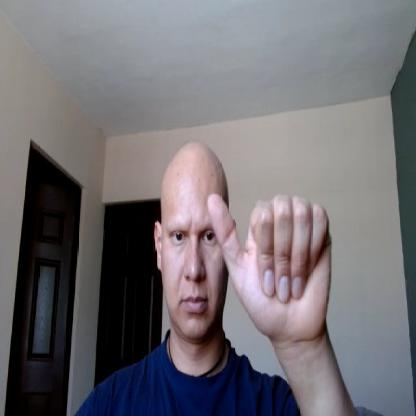A: (207, 193, 334, 340)
